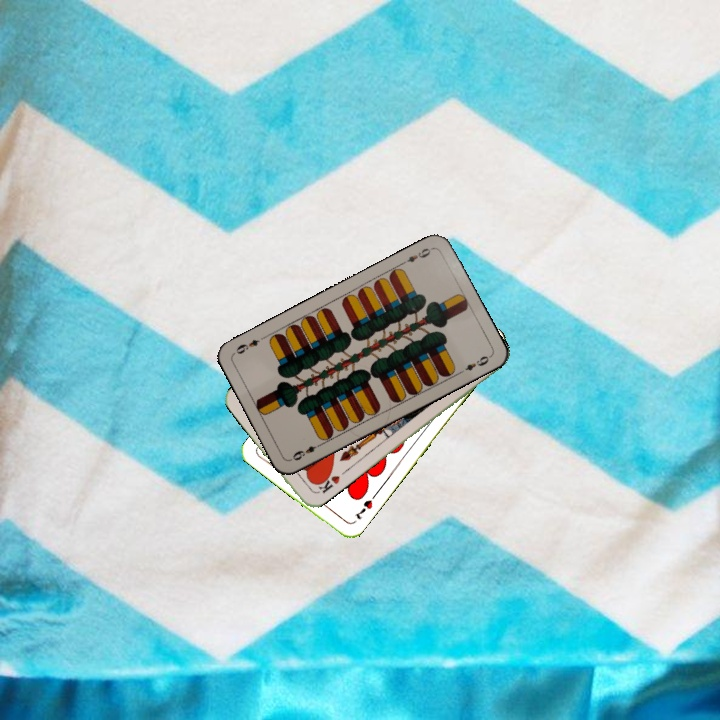E9: (287, 439, 325, 463), (397, 244, 435, 267)
H7: (350, 496, 375, 522)
HK: (311, 468, 343, 496)
